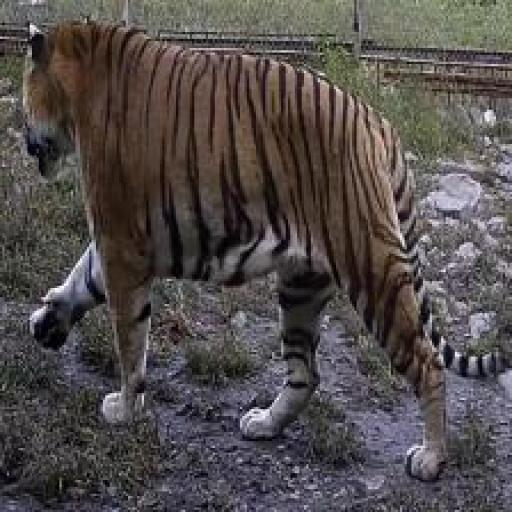Tiger: (9, 14, 511, 473)
